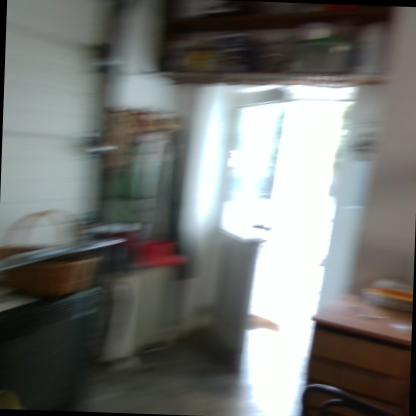semi: (183, 67, 366, 394)
